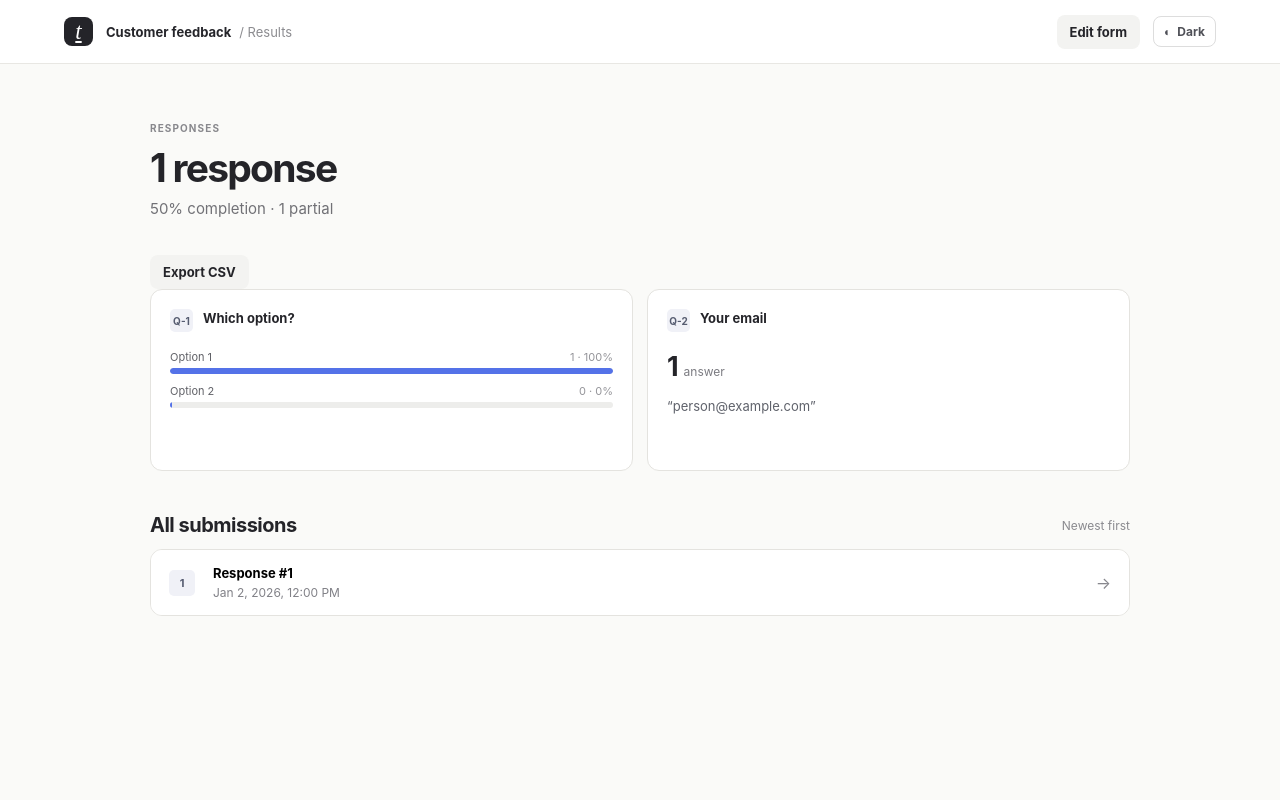
Test case: results integration › loads summaries and opens an individual persisted response
Expected: the heading "1 response" is shown, [150,144,336,191]
Expected: the text "50% completion · 1 partial" is shown, [150,199,333,218]
Click the button "1 Response #1 Jan 2, 2026, 12:00 PM →". click: (250, 573)
box: [151,550,1129,615]
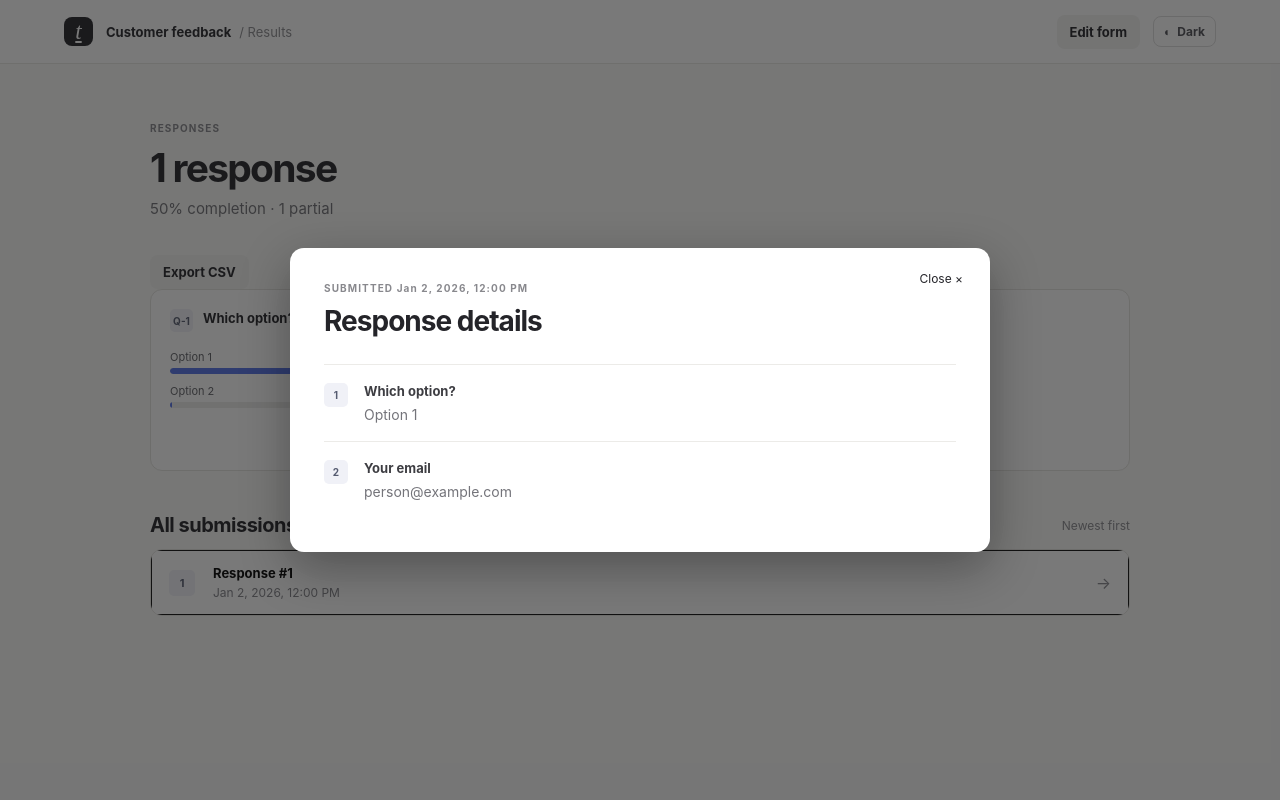
Now the dialog "Response details" is shown
Now the dialog "Response details" shows "Option 1", box [364,406,418,423]
